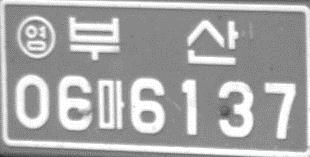0: (13, 73, 50, 129)
1: (172, 79, 207, 136)
3: (217, 79, 254, 137)
6: (129, 76, 167, 136), (56, 74, 93, 131)
7: (264, 82, 296, 140)
마: (96, 78, 126, 131)
부산_D: (67, 16, 240, 65)
영: (16, 15, 57, 59)
